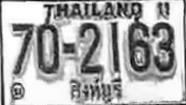0: (36, 22, 60, 74)
1: (110, 22, 120, 74)
2: (79, 22, 102, 73)
3: (152, 21, 174, 72)
6: (127, 21, 150, 72)
7: (11, 22, 34, 76)
SBR: (65, 76, 126, 105)
